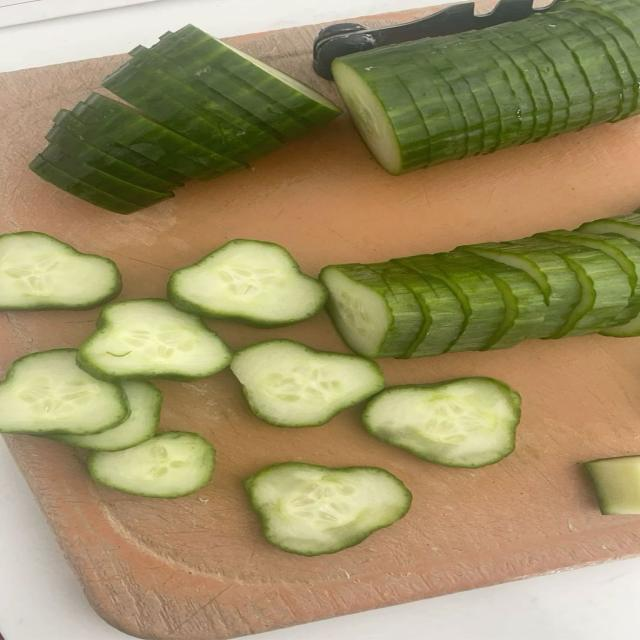cucumber sliced: (334, 4, 638, 173), (102, 59, 281, 162), (152, 25, 340, 123), (131, 46, 310, 141), (246, 463, 412, 555), (72, 93, 245, 179), (363, 378, 520, 467), (168, 240, 326, 326), (231, 340, 384, 427), (79, 299, 230, 380), (459, 239, 581, 337), (333, 58, 430, 174), (47, 110, 186, 190), (527, 233, 631, 338), (0, 349, 128, 434), (501, 14, 593, 132), (393, 254, 504, 351), (440, 252, 546, 349), (320, 265, 424, 357), (0, 232, 121, 309), (559, 3, 639, 119), (369, 263, 465, 358), (428, 36, 505, 153), (460, 32, 537, 147), (548, 11, 624, 126), (497, 24, 570, 139), (391, 55, 468, 164), (88, 432, 215, 498), (547, 230, 639, 321), (47, 129, 178, 191), (40, 145, 173, 206), (491, 33, 566, 141), (474, 38, 550, 143), (51, 382, 162, 451), (418, 55, 485, 157), (29, 156, 141, 214), (563, 0, 639, 44), (583, 456, 639, 514), (577, 211, 639, 247), (577, 210, 639, 242)
